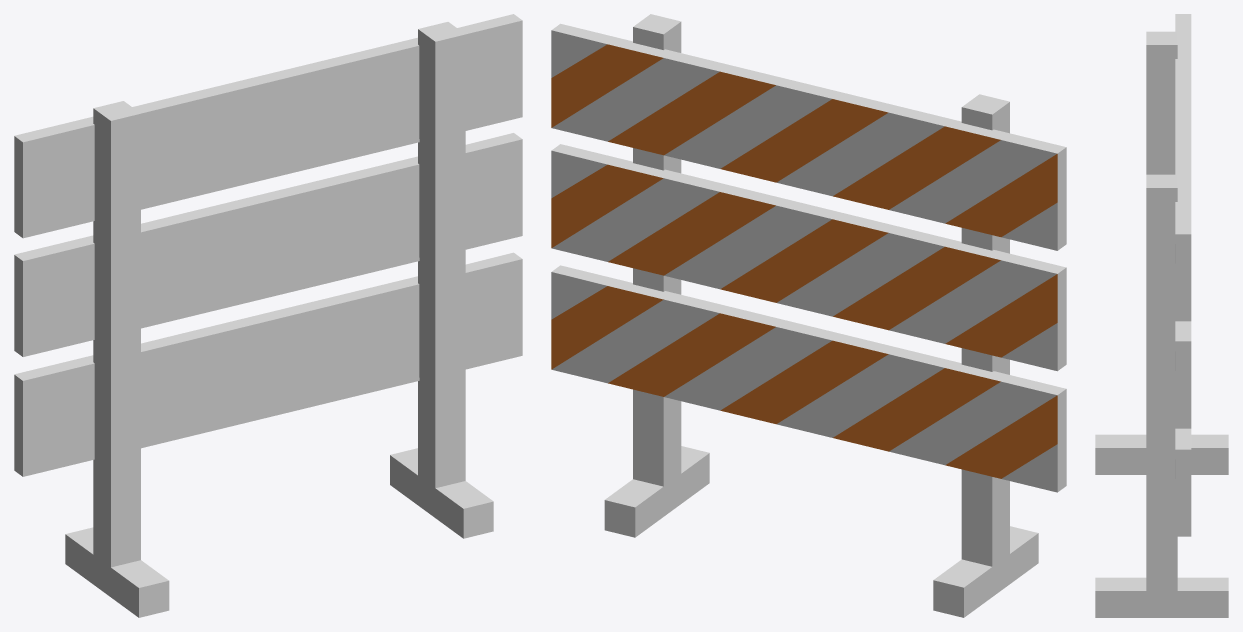
Rendered from construction_block_small.fbx.
3 renders of one model, left to right at view 1: azimuth 30°, elevation 25°; view 2: azimuth 150°, elevation 25°; view 3: azimuth 270°, elevation 25°, orthographic. The views are drawn at different scales.
Parts seen in each view (by area): view 1: construction roabock 3 lines small; view 2: construction roabock 3 lines small; view 3: construction roabock 3 lines small.
Part boxes in pixels (x1=…): construction roabock 3 lines small: x1=14, y1=14, x2=522, y2=617; construction roabock 3 lines small: x1=551, y1=14, x2=1066, y2=617; construction roabock 3 lines small: x1=1095, y1=14, x2=1228, y2=617.
Bounding box in the file's own units: 308 × 281 × 78.64.
